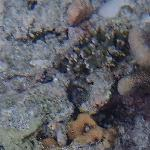dead: (1, 1, 143, 146)
